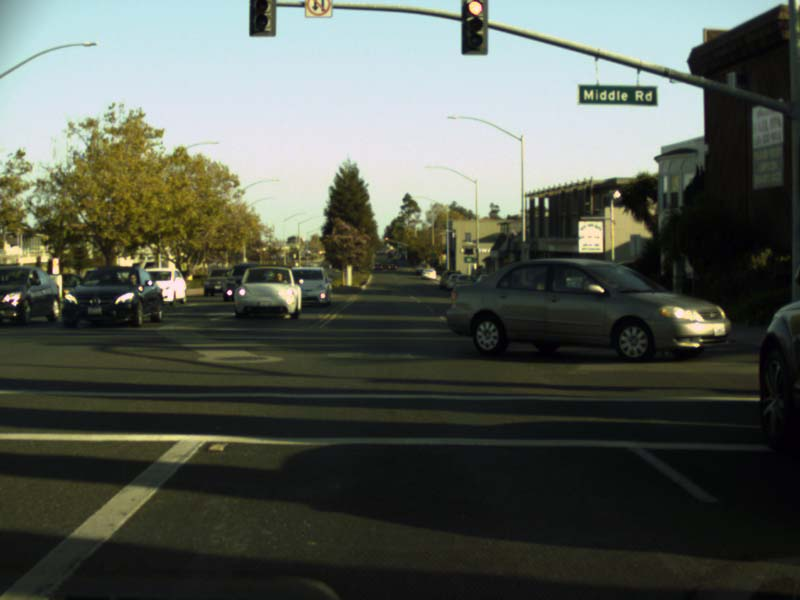Red: (383, 236, 389, 241)
